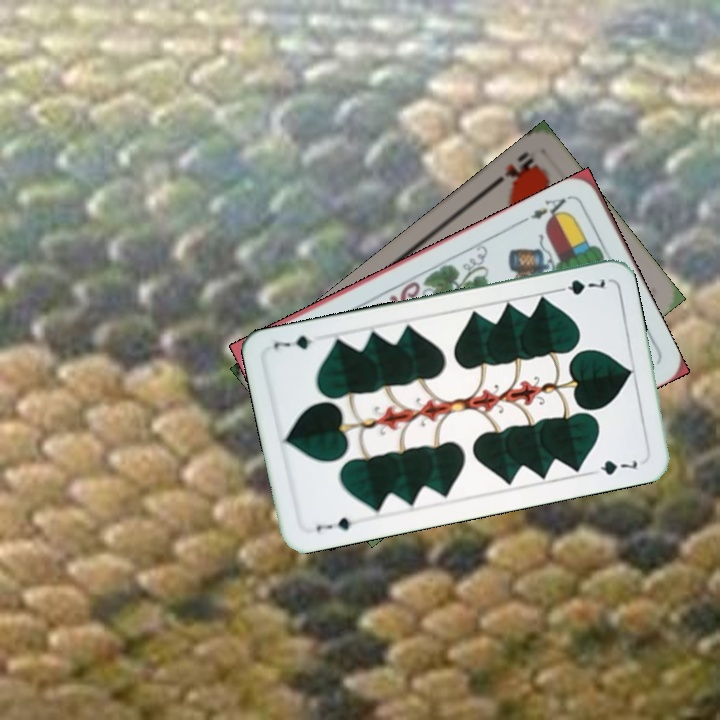EA: (526, 194, 571, 226)
G7: (550, 275, 611, 298), (312, 513, 363, 534)
HO: (486, 147, 540, 191)
